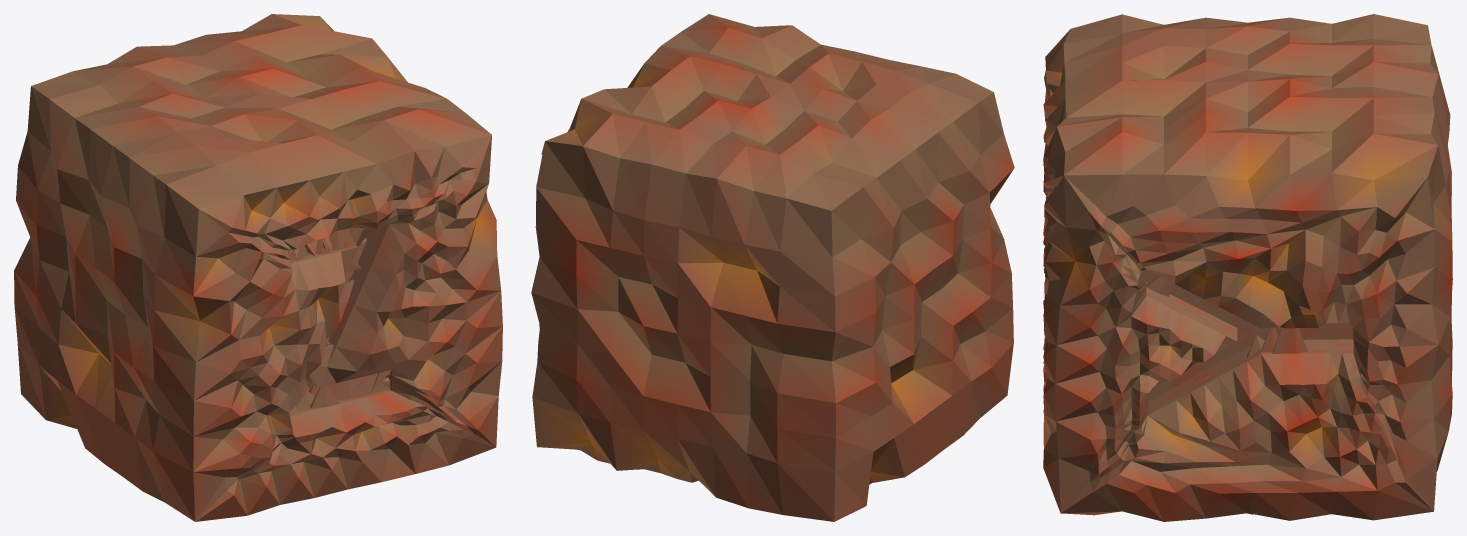
3 renders of one model, left to right at view 1: azimuth 30°, elevation 25°; view 2: azimuth 150°, elevation 25°; view 3: azimuth 270°, elevation 25°, orthographic. The views are drawn at different scales.
Size of the model in its own units: 1.1 by 1.1 by 1.1.
